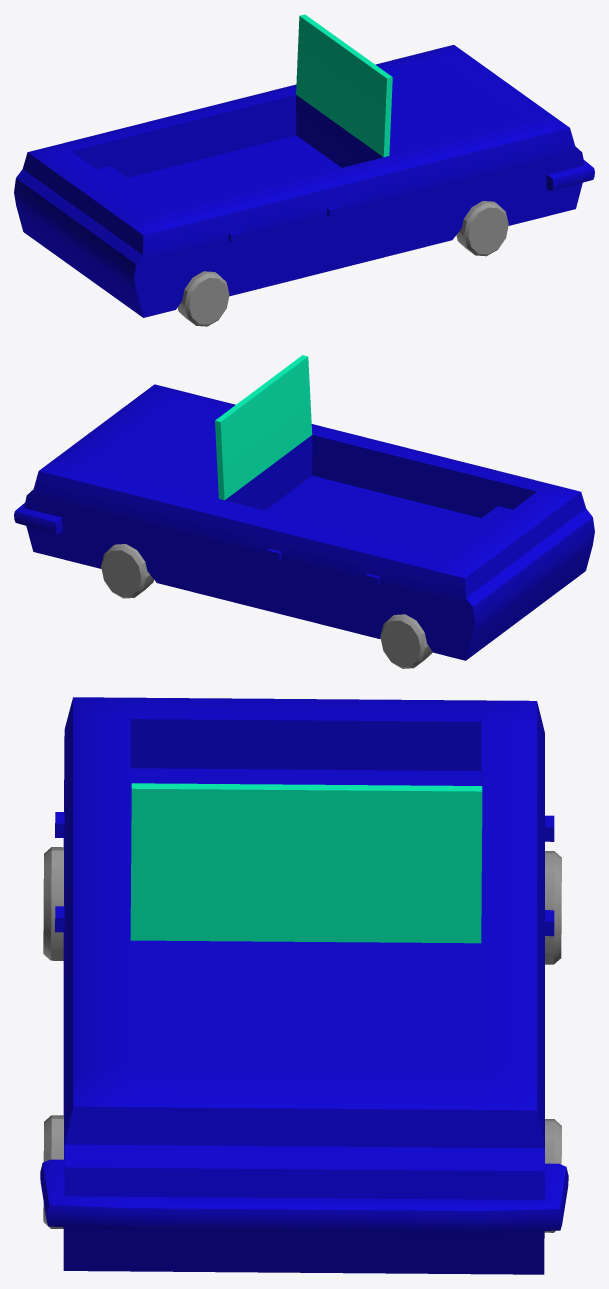
The model's file is Car.FBX.
3 views of the same model, one above another, from view 1: azimuth 30°, elevation 25°; view 2: azimuth 150°, elevation 25°; view 3: azimuth 270°, elevation 25° (orthographic). The views are drawn at different scales.
Parts seen in each view (by area): view 1: Voiture; view 2: Voiture; view 3: Voiture.
Boxes of the visible parts, box(x1,y1,x2,y2) form: Voiture: box(14, 14, 594, 326); Voiture: box(14, 355, 594, 668); Voiture: box(40, 697, 568, 1274).
Size of the model in its own units: 183 by 70.93 by 91.08.
